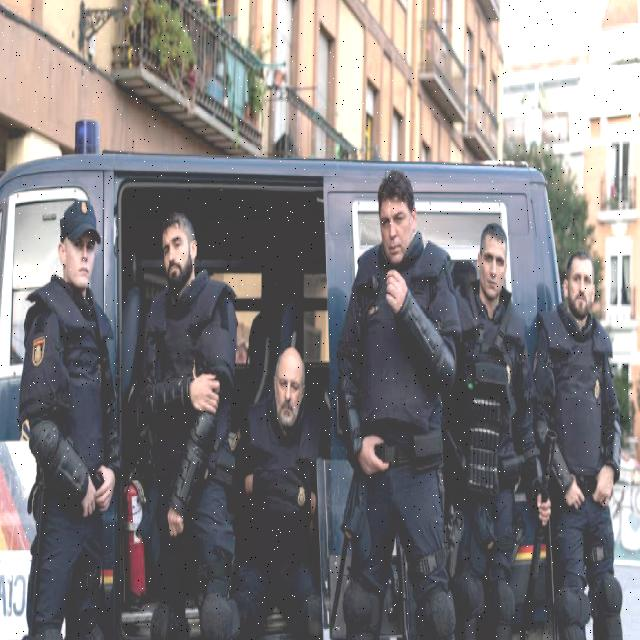police: (340, 172, 468, 640), (136, 195, 247, 640), (18, 197, 128, 640), (447, 211, 542, 640), (230, 332, 342, 640), (544, 245, 625, 638)
